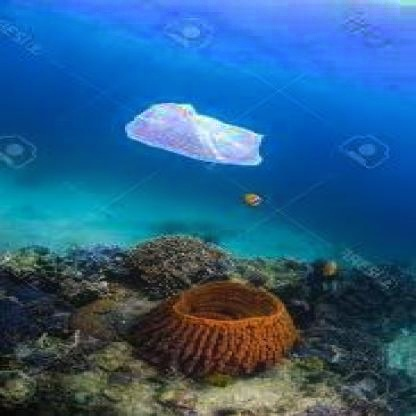pbag: (123, 101, 266, 168)
